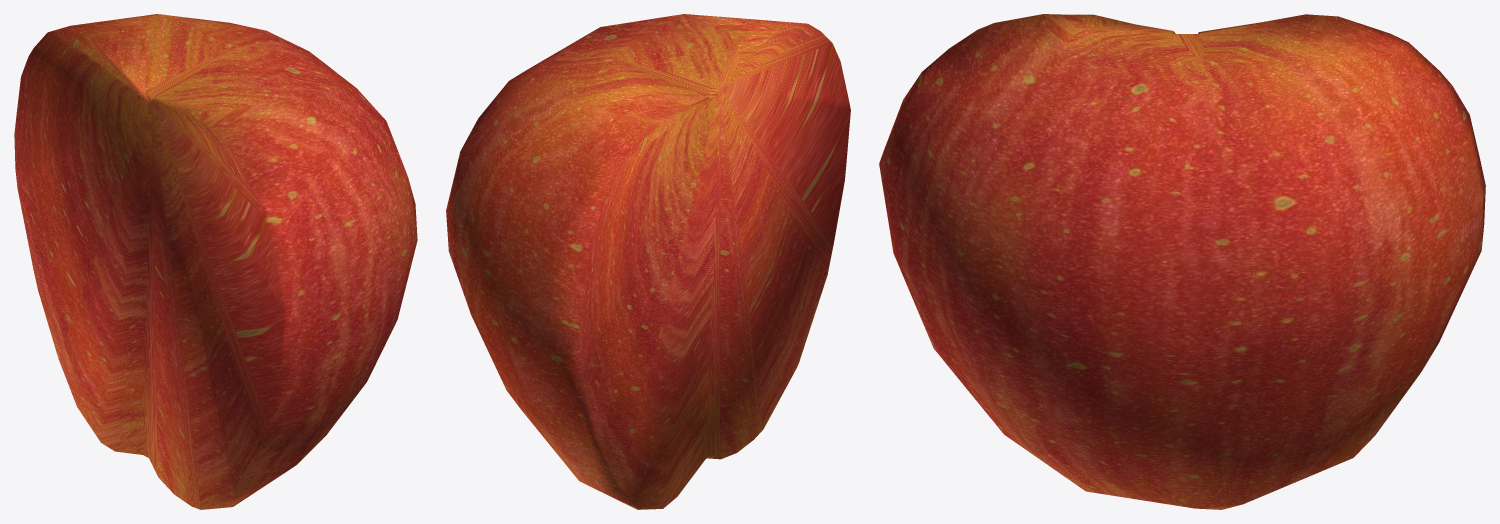
File: apple_right.obj
The picture shows the model from 3 angles, left to right: view 1: azimuth 30°, elevation 25°; view 2: azimuth 150°, elevation 25°; view 3: azimuth 270°, elevation 25°; orthographic projection. The views are drawn at different scales.
Visible parts, largest first — view 1: Apple; view 2: Apple; view 3: Apple.
Boxes of the visible parts, x1,y1,x2,y2 form: Apple: (14,14,417,509); Apple: (446,14,850,509); Apple: (879,14,1485,509).
Size of the model in its own units: 0.0604 by 0.1028 by 0.1251.
